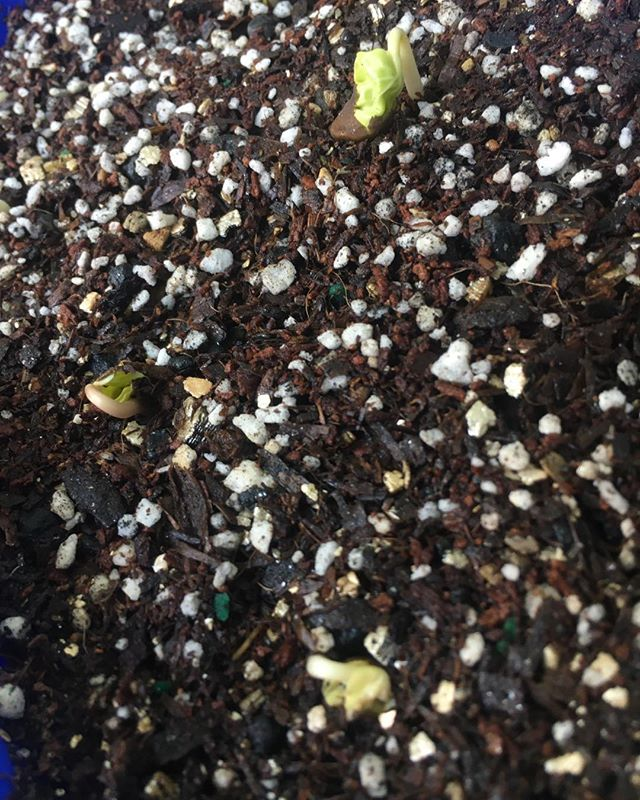dirt: (4, 13, 640, 800)
